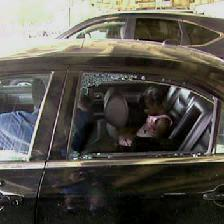glass_shatter: (63, 74, 212, 168), (44, 182, 210, 211)
